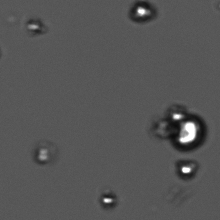Living Cell: (176, 118, 203, 149), (127, 1, 159, 24), (173, 158, 200, 179), (32, 143, 55, 165), (25, 16, 46, 35), (98, 190, 118, 208), (165, 106, 186, 121)
